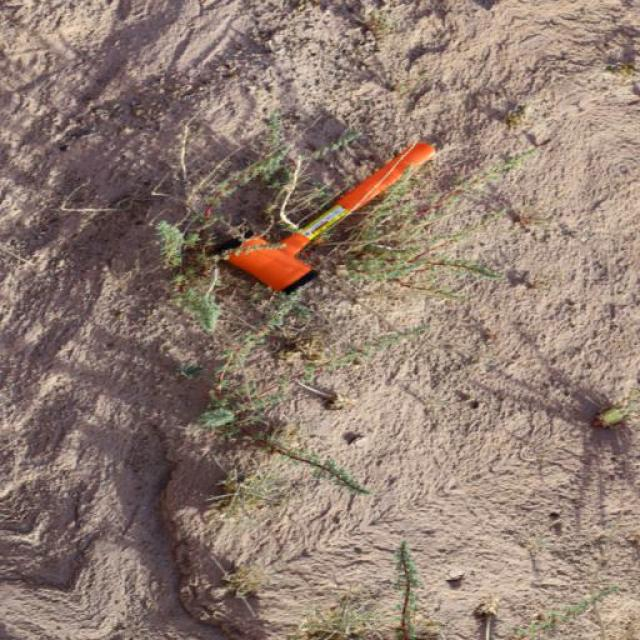mallet: (222, 137, 438, 295)
